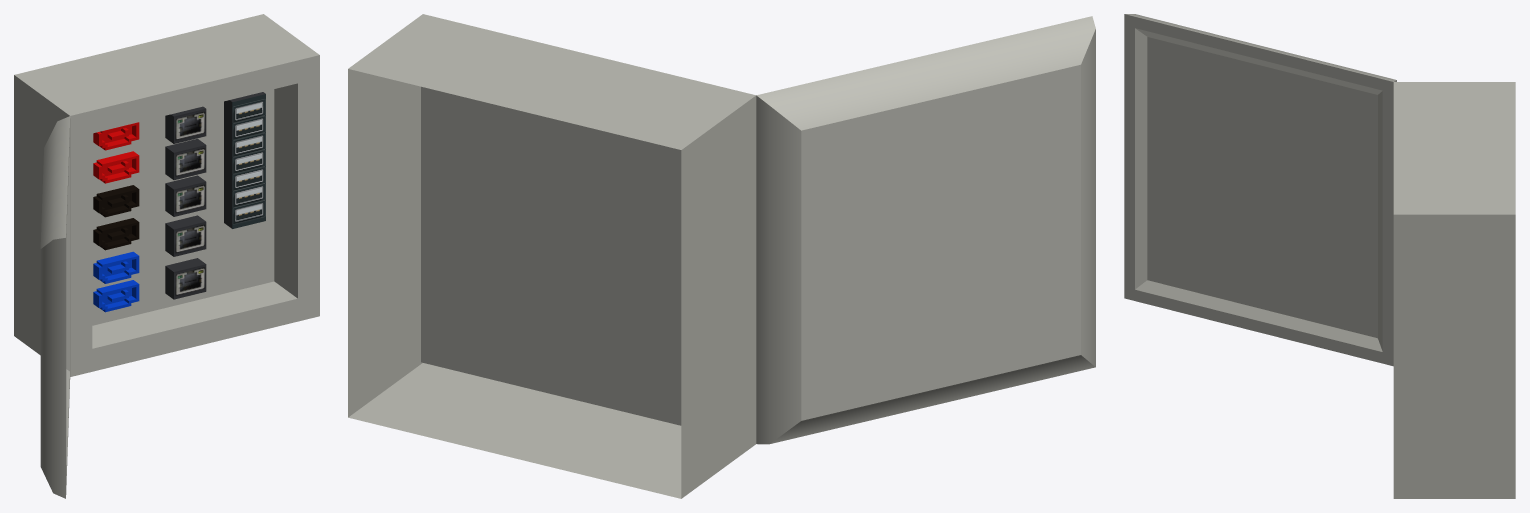
The model's file is InputBox.fbx.
3 renders of one model, left to right at view 1: azimuth 30°, elevation 25°; view 2: azimuth 150°, elevation 25°; view 3: azimuth 270°, elevation 25°, orthographic. The views are drawn at different scales.
Parts seen in each view (by area): view 1: InputBox, Cover, USB, Modem9, Modem10, Modem11, Modem8, Modem7, Sata1, Sata2, Sata3, Sata5 (+2 smaller); view 2: InputBox, Cover; view 3: Cover, InputBox.
Part boxes in pixels (left/top/right/bottom): InputBox: left=14, top=14, right=319, bottom=376; Cover: left=40, top=116, right=70, bottom=498; USB: left=224, top=92, right=265, bottom=228; Modem9: left=165, top=175, right=206, bottom=216; Modem10: left=165, top=215, right=206, bottom=256; Modem11: left=165, top=258, right=206, bottom=299; Modem8: left=165, top=138, right=206, bottom=180; Modem7: left=165, top=106, right=206, bottom=143; Sata1: left=93, top=151, right=139, bottom=183; Sata2: left=93, top=185, right=139, bottom=217; Sata3: left=93, top=218, right=139, bottom=250; Sata5: left=93, top=280, right=139, bottom=312; InputBox: left=348, top=14, right=756, bottom=498; Cover: left=756, top=16, right=1095, bottom=444; Cover: left=1124, top=14, right=1396, bottom=366; InputBox: left=1393, top=82, right=1515, bottom=498.
Size of the model in its own units: 0.0253 by 0.0164 by 0.0204.
